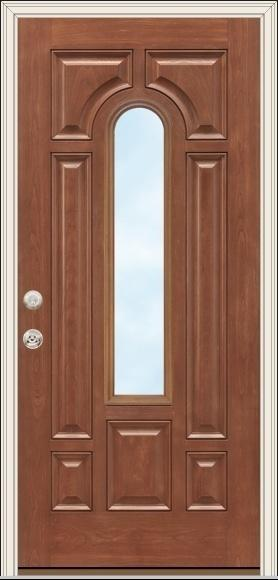door: (0, 9, 273, 548)
